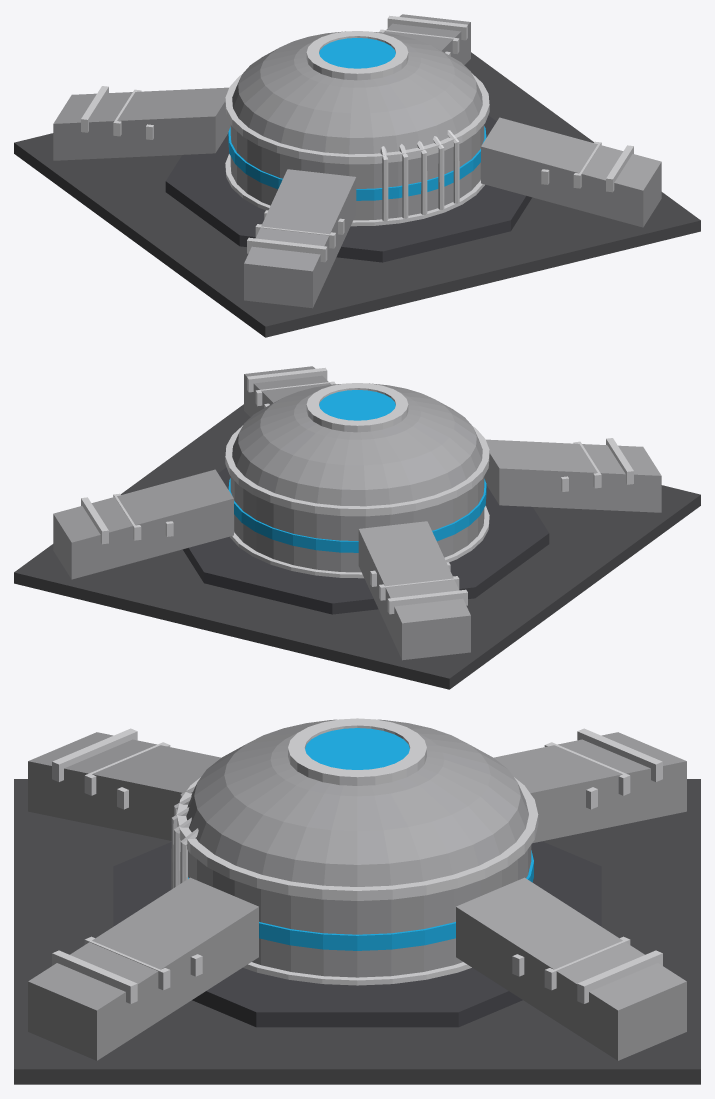
Rendered from vge_grav_field_dilutor.obj.
3 views of the same model, one above another, from view 1: azimuth 30°, elevation 25°; view 2: azimuth 150°, elevation 25°; view 3: azimuth 270°, elevation 25° (orthographic). The views are drawn at different scales.
Visible parts, largest first — view 1: vge_grav_field_dilutor_0, vge_grav_field_dilutor_22, vge_grav_field_dilutor_1, vge_grav_field_dilutor_14, vge_grav_field_dilutor_6, vge_grav_field_dilutor_10, vge_grav_field_dilutor_18, vge_grav_field_dilutor_21, vge_grav_field_dilutor_23, vge_grav_field_dilutor_19, vge_grav_field_dilutor_24, vge_grav_field_dilutor_2 (+4 smaller); view 2: vge_grav_field_dilutor_0, vge_grav_field_dilutor_22, vge_grav_field_dilutor_1, vge_grav_field_dilutor_2, vge_grav_field_dilutor_10, vge_grav_field_dilutor_6, vge_grav_field_dilutor_18, vge_grav_field_dilutor_21, vge_grav_field_dilutor_19, vge_grav_field_dilutor_23, vge_grav_field_dilutor_24, vge_grav_field_dilutor_14 (+3 smaller); view 3: vge_grav_field_dilutor_0, vge_grav_field_dilutor_22, vge_grav_field_dilutor_2, vge_grav_field_dilutor_14, vge_grav_field_dilutor_1, vge_grav_field_dilutor_18, vge_grav_field_dilutor_6, vge_grav_field_dilutor_10, vge_grav_field_dilutor_21, vge_grav_field_dilutor_23, vge_grav_field_dilutor_19, vge_grav_field_dilutor_24 (+5 smaller).
Boxes of the visible parts, <box> form: vge_grav_field_dilutor_0: <box>14,52,700,337</box>; vge_grav_field_dilutor_22: <box>232,31,482,154</box>; vge_grav_field_dilutor_1: <box>165,115,532,262</box>; vge_grav_field_dilutor_14: <box>481,117,661,227</box>; vge_grav_field_dilutor_6: <box>53,87,230,160</box>; vge_grav_field_dilutor_10: <box>244,169,356,308</box>; vge_grav_field_dilutor_18: <box>230,124,484,220</box>; vge_grav_field_dilutor_21: <box>225,73,489,164</box>; vge_grav_field_dilutor_23: <box>306,31,408,80</box>; vge_grav_field_dilutor_19: <box>228,126,486,200</box>; vge_grav_field_dilutor_24: <box>319,38,395,68</box>; vge_grav_field_dilutor_2: <box>384,14,470,65</box>; vge_grav_field_dilutor_0: <box>14,404,700,689</box>; vge_grav_field_dilutor_22: <box>232,383,482,506</box>; vge_grav_field_dilutor_1: <box>182,467,549,614</box>; vge_grav_field_dilutor_2: <box>53,469,233,579</box>; vge_grav_field_dilutor_10: <box>484,439,661,512</box>; vge_grav_field_dilutor_6: <box>358,521,470,660</box>; vge_grav_field_dilutor_18: <box>230,476,484,572</box>; vge_grav_field_dilutor_21: <box>225,425,489,516</box>; vge_grav_field_dilutor_19: <box>228,478,486,552</box>; vge_grav_field_dilutor_23: <box>306,383,408,432</box>; vge_grav_field_dilutor_24: <box>319,390,395,420</box>; vge_grav_field_dilutor_14: <box>244,366,330,417</box>; vge_grav_field_dilutor_0: <box>14,779,700,1084</box>; vge_grav_field_dilutor_22: <box>186,719,528,886</box>; vge_grav_field_dilutor_2: <box>456,877,686,1060</box>; vge_grav_field_dilutor_14: <box>28,877,258,1060</box>; vge_grav_field_dilutor_1: <box>113,841,601,1027</box>; vge_grav_field_dilutor_18: <box>188,845,531,977</box>; vge_grav_field_dilutor_6: <box>494,732,686,843</box>; vge_grav_field_dilutor_10: <box>28,732,220,840</box>; vge_grav_field_dilutor_21: <box>176,777,538,900</box>; vge_grav_field_dilutor_23: <box>288,718,426,785</box>; vge_grav_field_dilutor_19: <box>188,850,533,950</box>; vge_grav_field_dilutor_24: <box>305,728,409,769</box>.
Bounding box in the file's own units: 4.94 × 1.52 × 4.94.
